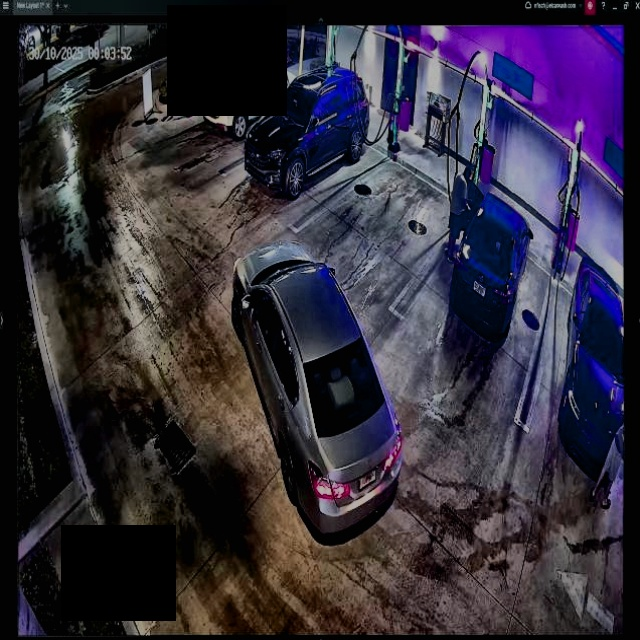Car: (230, 241, 402, 536), (242, 66, 371, 197), (450, 169, 531, 336)
